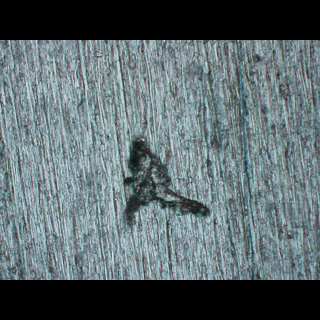d: (118, 134, 212, 233)
